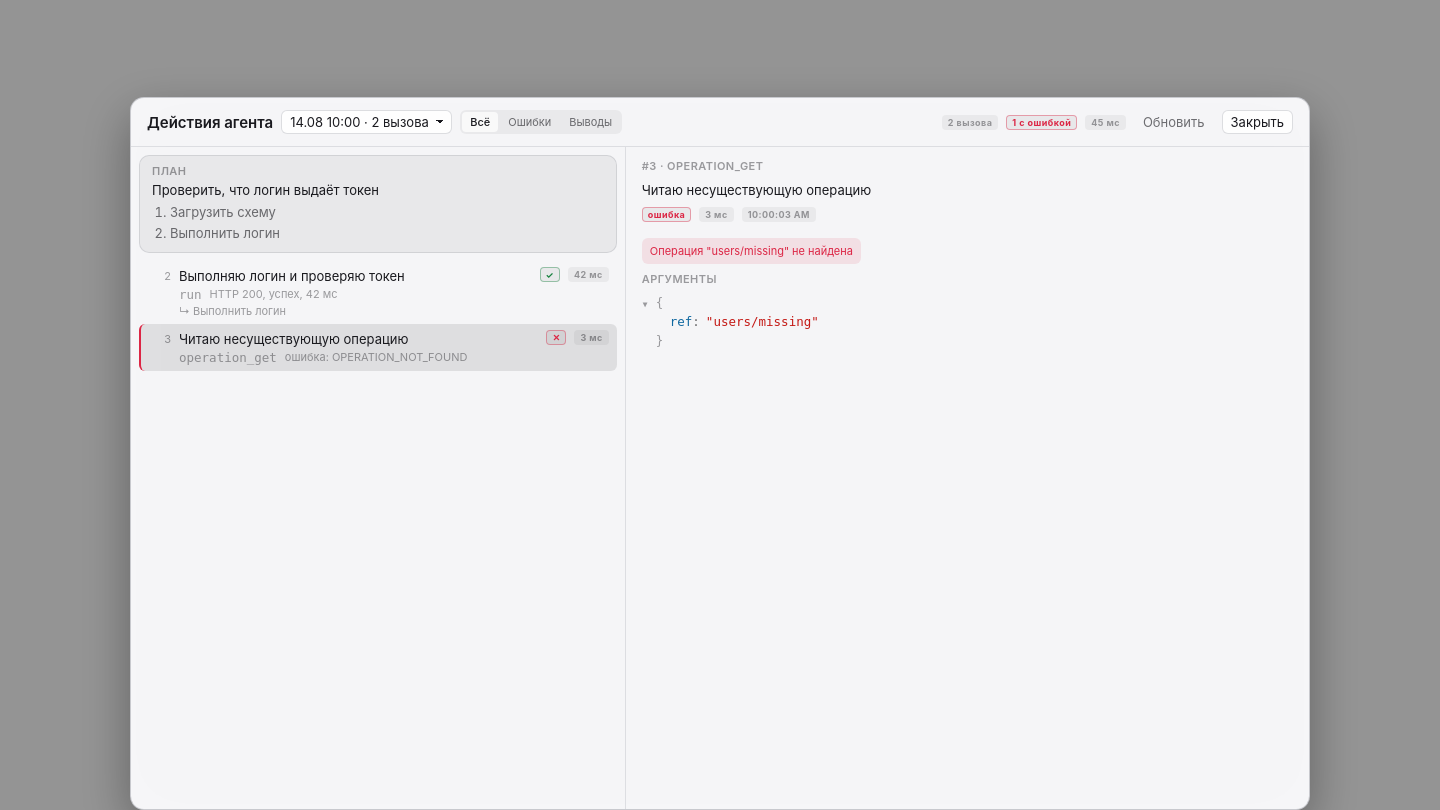
Test case: журнал действий агента › фильтр «Ошибки» оставляет только неудачные вызовы
This screenshot has width=1440, height=810.
Step 1. Click the button "Ошибки" → click(530, 122), box x1=500 y1=112 x2=559 y2=132
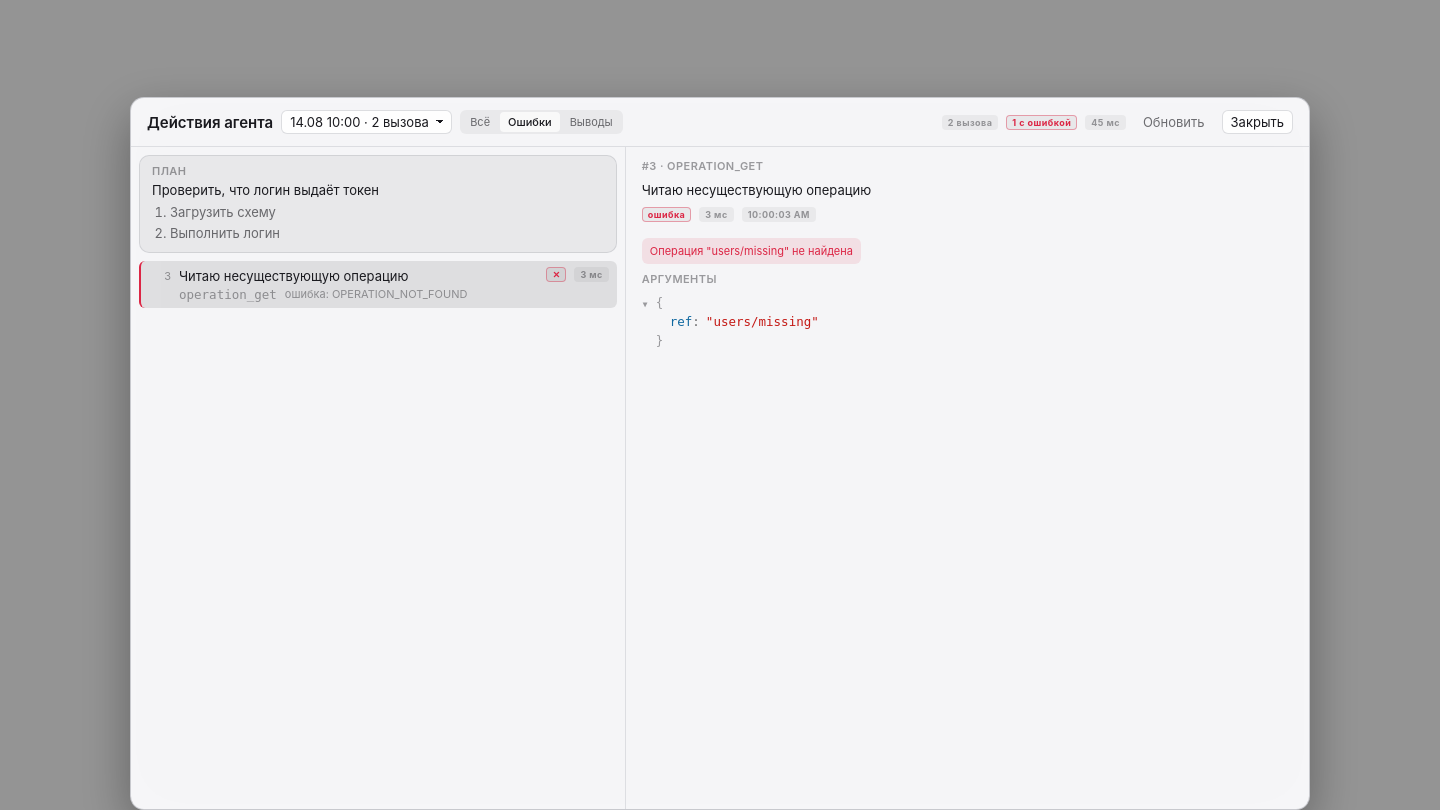
expect the text "Читаю несуществующую операцию" below "Выполнить логин" is shown: met, box x1=179 y1=268 x2=408 y2=284
expect the text "Выполняю логин и проверяю токен" is gone: met
